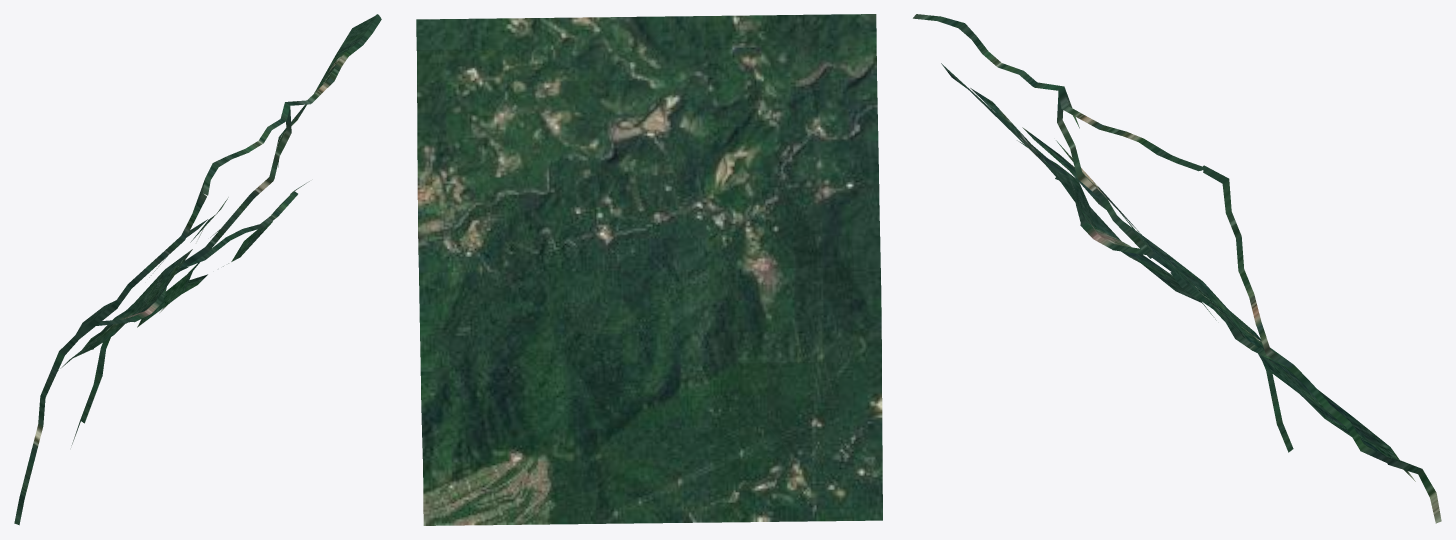
3 views of the same model, side by side, from view 1: azimuth 30°, elevation 25°; view 2: azimuth 150°, elevation 25°; view 3: azimuth 270°, elevation 25° (orthographic). The views are drawn at different scales.
Bounding box in the file's own units: 2420 × 2255 × 2410.
Materials: 1 (1 with a texture image).
